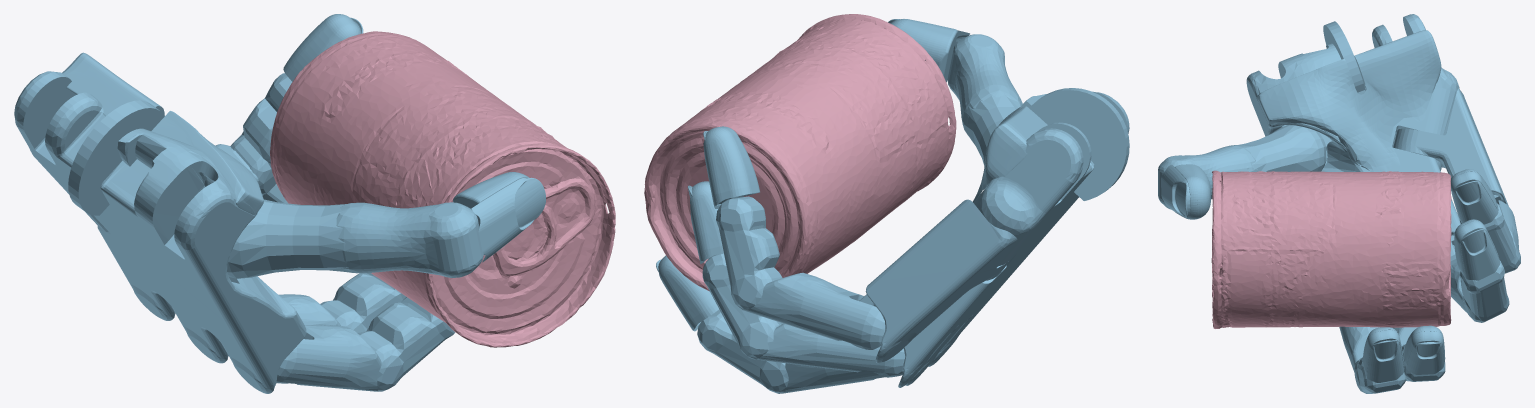
Rendered from ShadowHand_ycb+tomato_soup_can_mesh.glb.
3 renders of one model, left to right at view 1: azimuth 30°, elevation 25°; view 2: azimuth 150°, elevation 25°; view 3: azimuth 270°, elevation 25°, orthographic. The views are drawn at different scales.
Visible parts, largest first — view 1: world; view 2: world; view 3: world.
Part boxes in pixels (x1,y1,x2,y2): world: (14,14,615,393); world: (644,14,1129,393); world: (1158,14,1520,393).
Size of the model in its own units: 0.1661 by 0.1269 by 0.1543.
